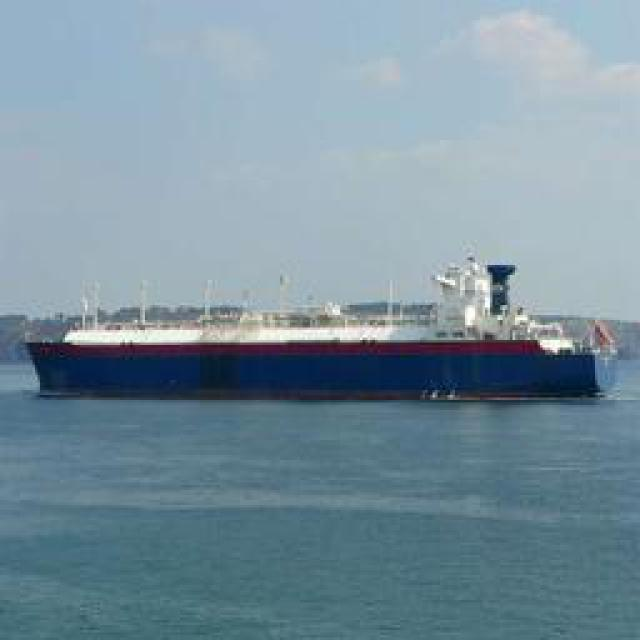Ship: (26, 305, 621, 403)
